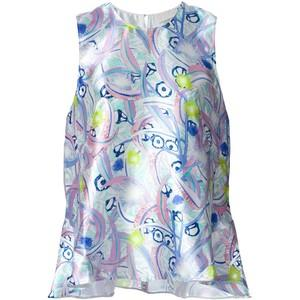C_tank top: (34, 1, 267, 299)
